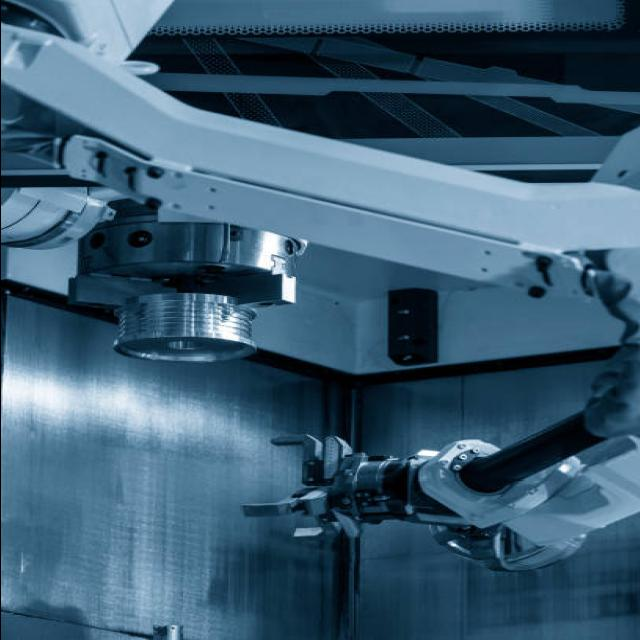Robotic-arm: (0, 1, 640, 578)
